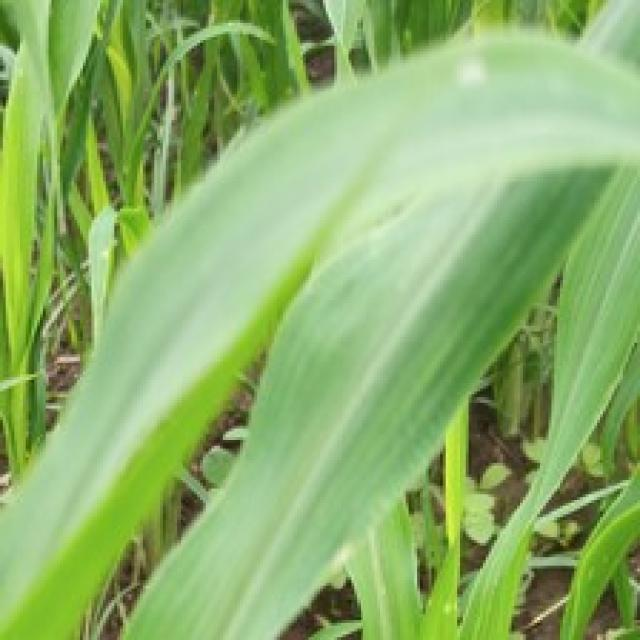Corn: (0, 17, 637, 637)
